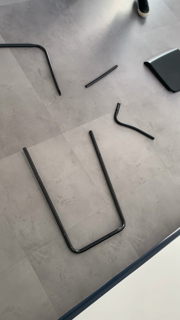L pipe: (112, 102, 157, 144)
U pipe: (23, 129, 129, 256)
i pipe: (83, 64, 120, 93)
